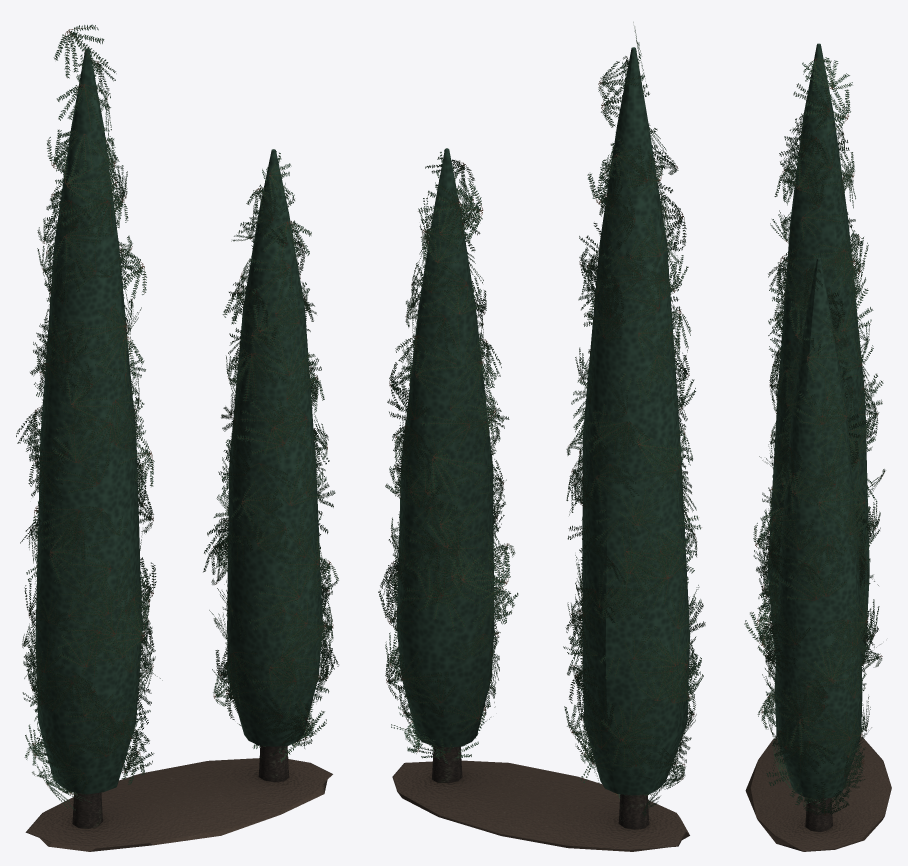
Rendered from CypressPair.fbx.
3 renders of one model, left to right at view 1: azimuth 30°, elevation 25°; view 2: azimuth 150°, elevation 25°; view 3: azimuth 270°, elevation 25°, orthographic. The views are drawn at different scales.
Visible parts, largest first — view 1: CypressPair_Main, CypressPair_Leaves; view 2: CypressPair_Main, CypressPair_Leaves; view 3: CypressPair_Main, CypressPair_Leaves.
Boxes of the visible parts, left/top/right/bottom form: CypressPair_Main: left=25, top=49, right=332, bottom=851; CypressPair_Leaves: left=16, top=24, right=338, bottom=810; CypressPair_Main: left=392, top=47, right=689, bottom=851; CypressPair_Leaves: left=378, top=22, right=705, bottom=816; CypressPair_Main: left=745, top=43, right=891, bottom=851; CypressPair_Leaves: left=744, top=57, right=885, bottom=815.
Bounding box in the file's own units: 686 × 1671 × 316.
